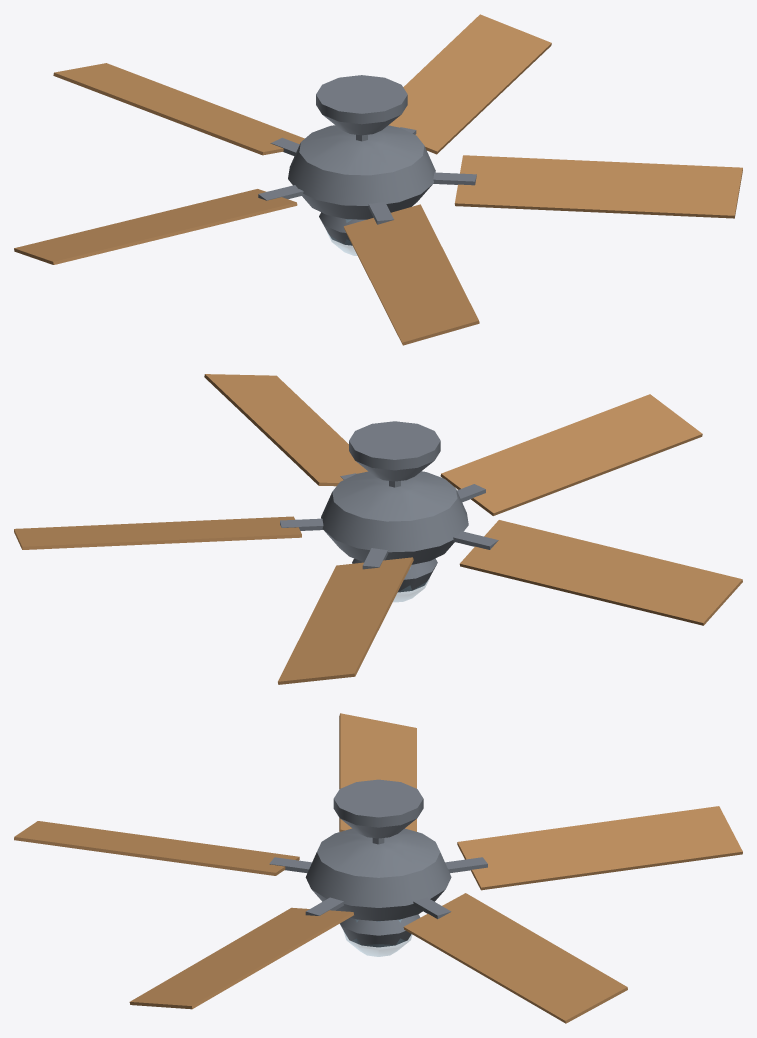
File: ceiling_fan_52in.mid.glb
The picture shows the model from 3 angles, top to bottom: view 1: azimuth 30°, elevation 25°; view 2: azimuth 150°, elevation 25°; view 3: azimuth 270°, elevation 25°; orthographic projection. The views are drawn at different scales.
Parts seen in each view (by area): view 1: rotor, ceiling_fan_52in; view 2: rotor, ceiling_fan_52in; view 3: rotor, ceiling_fan_52in.
Part boxes in pixels (box(x1,y1,x2,y2)): rotor: box(14, 14, 742, 345); ceiling_fan_52in: box(316, 75, 407, 255); rotor: box(14, 374, 742, 684); ceiling_fan_52in: box(349, 421, 440, 601); rotor: box(14, 713, 742, 1023); ceiling_fan_52in: box(333, 779, 423, 956).
Size of the model in its own units: 1.24 by 0.3048 by 1.3.
